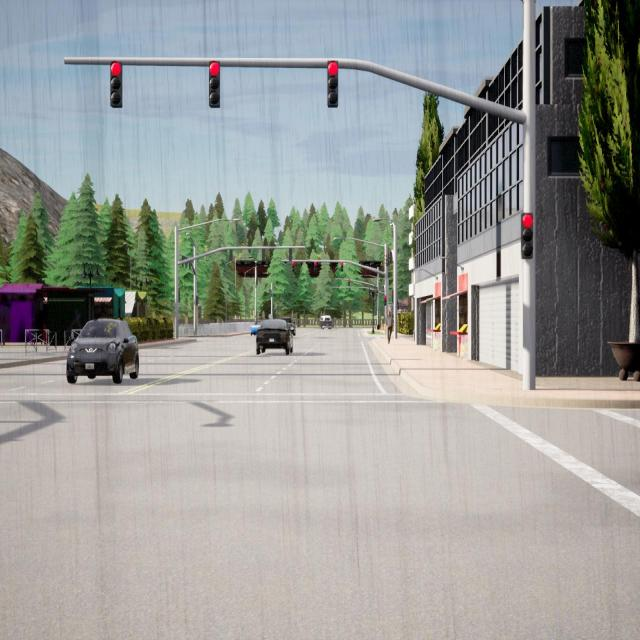Pedestrian: (386, 310, 394, 344)
Traffic_Signs: (268, 314, 272, 319)
Vehicle: (66, 319, 139, 384), (256, 320, 292, 354), (281, 318, 296, 336), (250, 320, 263, 336), (320, 315, 332, 330)
traffic_light: (110, 62, 123, 107), (521, 213, 533, 258), (209, 61, 220, 107), (328, 61, 338, 107), (289, 248, 292, 261), (262, 248, 265, 260), (292, 261, 295, 272), (384, 296, 387, 306), (185, 258, 188, 268), (392, 290, 394, 302), (230, 250, 232, 262), (386, 255, 388, 266), (182, 256, 184, 267), (388, 253, 390, 264), (390, 252, 392, 263), (315, 262, 317, 272), (196, 296, 198, 306), (341, 262, 343, 271), (348, 279, 350, 286), (256, 278, 258, 285), (363, 288, 365, 294), (189, 262, 191, 268), (179, 290, 180, 302), (349, 288, 351, 293), (337, 288, 338, 294), (270, 290, 271, 294)
